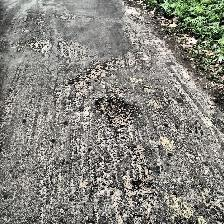pothole: (94, 94, 135, 126), (70, 63, 107, 89), (131, 180, 149, 192)
